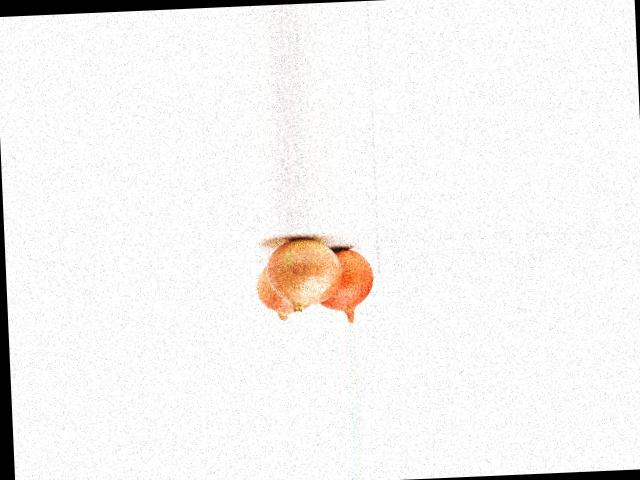onion: (315, 243, 375, 319)
